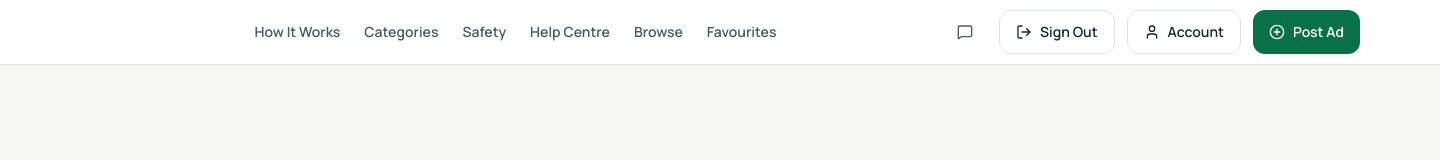
server sign-in navigation › disables the styled desktop sign-out button while pending and allows retry on failure
The image size is (1440, 160).
Click the button "Sign Out".
click(1057, 32)  # box [999, 10, 1114, 54]
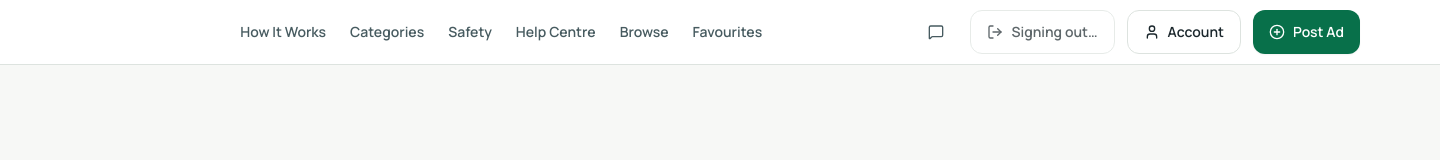
Expected: the button "Signing out…" is disabled
Click the button "Signing out…".
click(1043, 32)  # box [970, 10, 1115, 54]
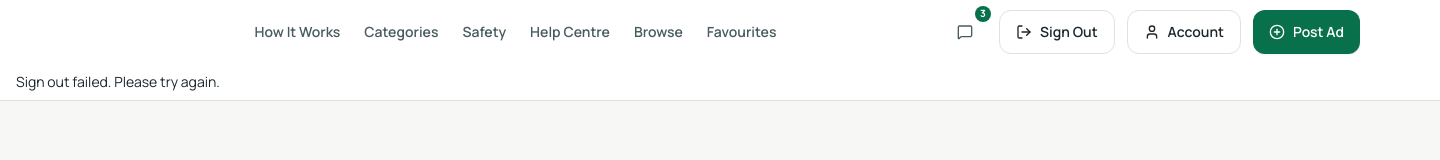
Expected: the button "Sign Out" is enabled, [999, 10, 1114, 54]
Expected: the message shows "Sign out failed", [16, 72, 220, 91]
